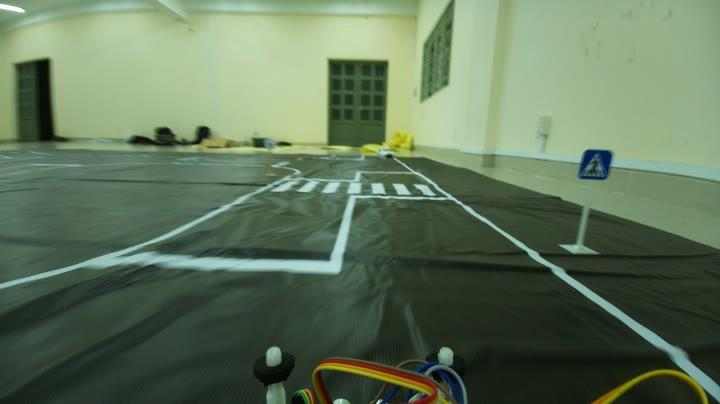crosswalk: (571, 139, 612, 184)
